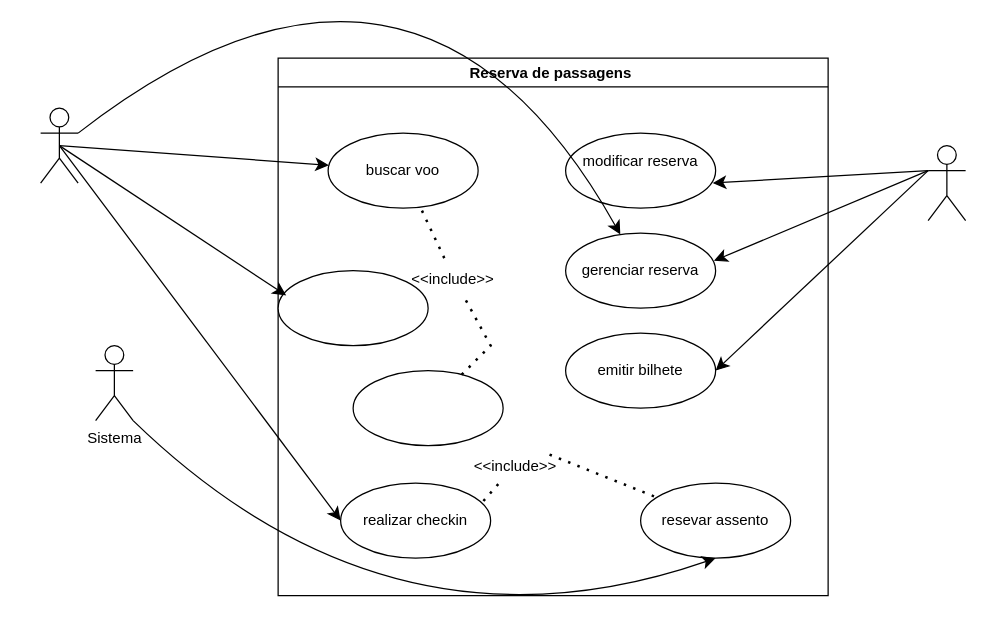
Some shapes in this 1008 by 619 pixel diagram are drawn without their labels. The shapes that lost their labels are listed below. From the top down, each one's centre as x and y in pixels, then its label:
[58,145]: Passageiro
[946,182]: Funcionario
[352,307]: reservar trecho
[427,407]: comprar passagem
